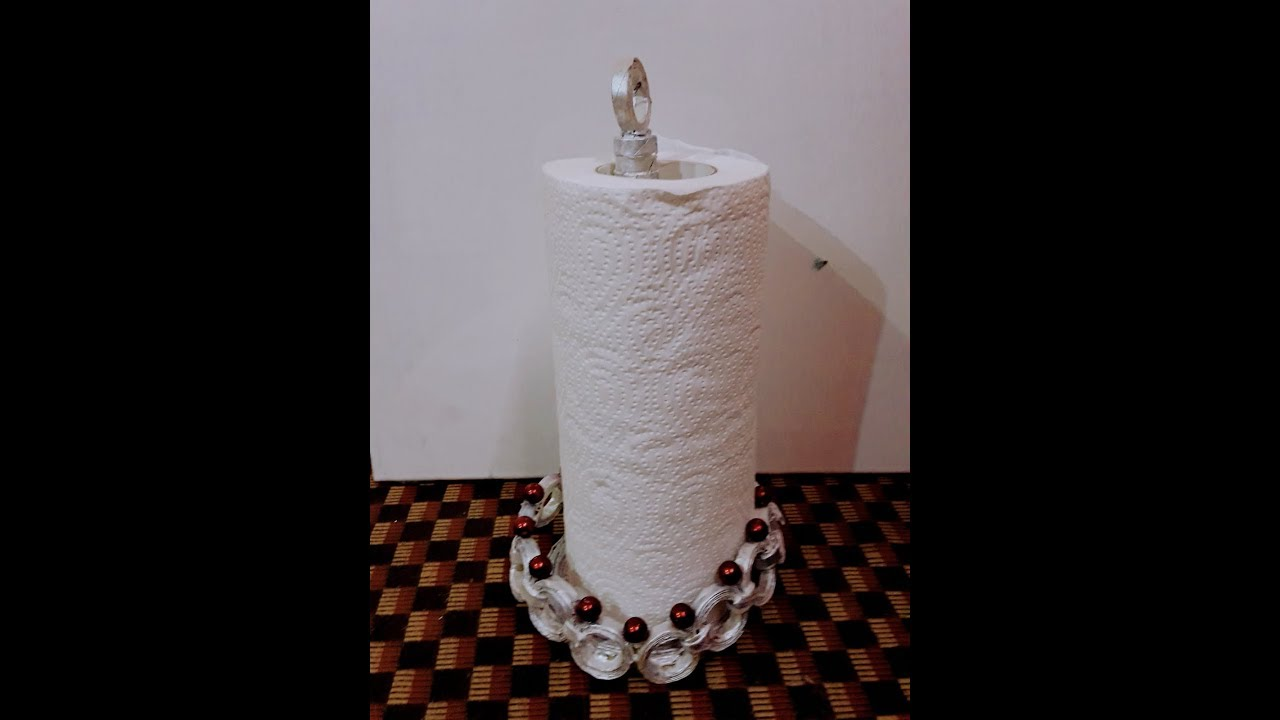Tissue: (544, 137, 775, 621)
